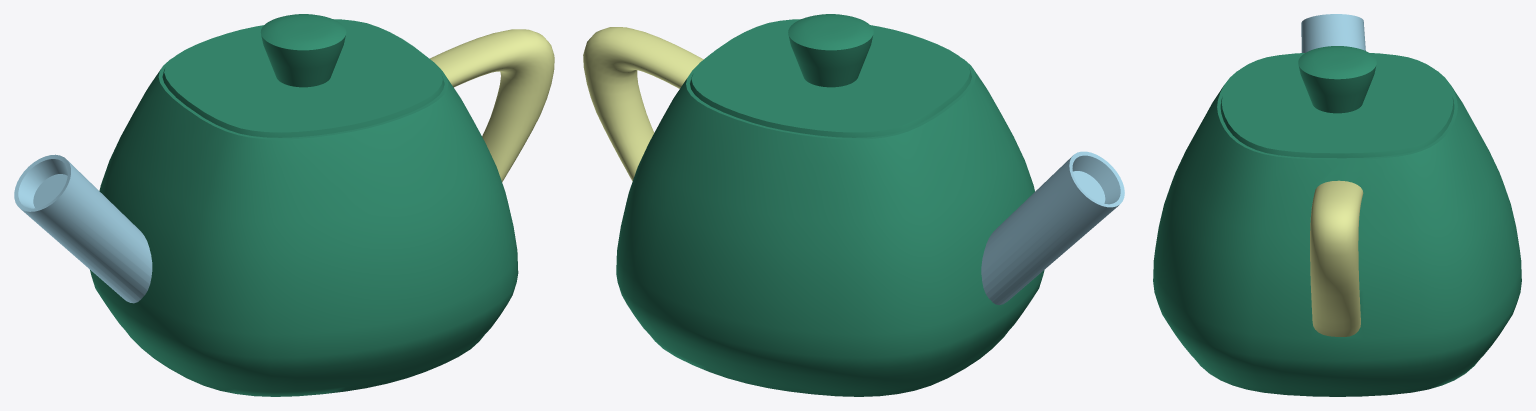
The picture shows the model from 3 angles, left to right: view 1: azimuth 30°, elevation 25°; view 2: azimuth 150°, elevation 25°; view 3: azimuth 270°, elevation 25°; orthographic projection. The views are drawn at different scales.
Parts seen in each view (by area): view 1: Object_2, Object_2.005, Object_2.260; view 2: Object_2, Object_2.005, Object_2.260; view 3: Object_2, Object_2.260, Object_2.005.
Part boxes in pixels (bbox=[...]): Object_2: bbox=[90, 14, 518, 396]; Object_2.005: bbox=[14, 154, 152, 303]; Object_2.260: bbox=[430, 29, 554, 182]; Object_2: bbox=[616, 14, 1044, 396]; Object_2.005: bbox=[981, 151, 1124, 304]; Object_2.260: bbox=[583, 27, 703, 180]; Object_2: bbox=[1153, 46, 1521, 396]; Object_2.260: bbox=[1310, 180, 1363, 336]; Object_2.005: bbox=[1301, 14, 1365, 52].
Bounding box in the file's own units: 1 × 0.5314 × 0.6525.
